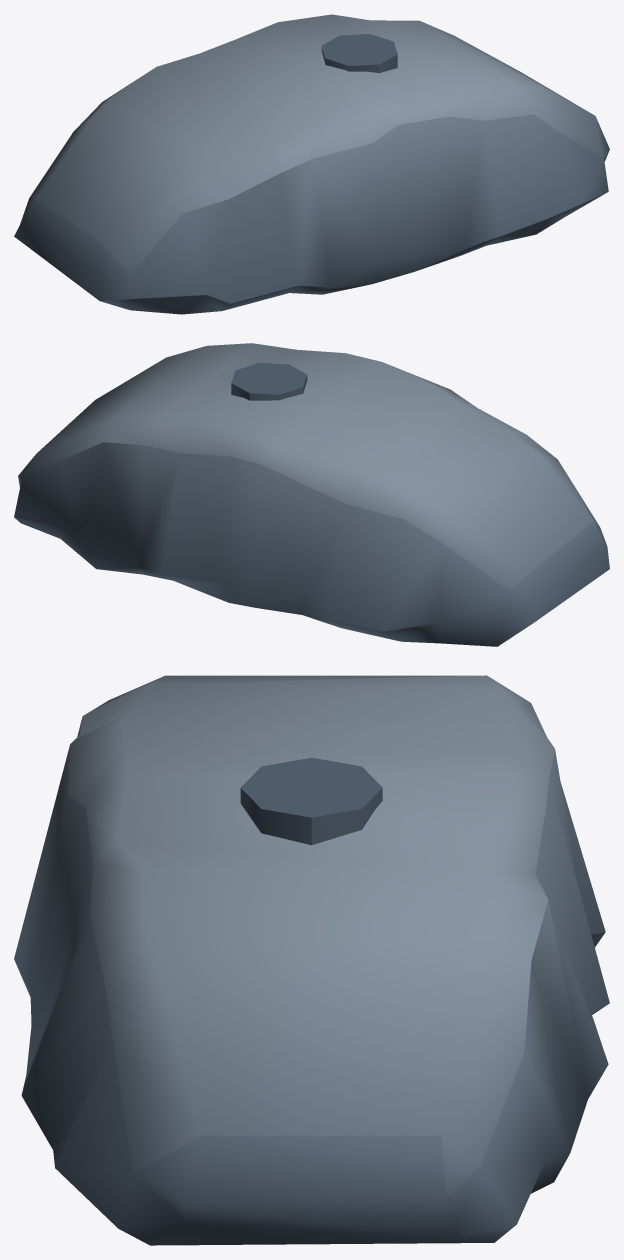
The model's file is Kulce_Gumus.fbx.
3 views of the same model, one above another, from view 1: azimuth 30°, elevation 25°; view 2: azimuth 150°, elevation 25°; view 3: azimuth 270°, elevation 25° (orthographic). The views are drawn at different scales.
Visible parts, largest first — view 1: Kulce_Gumus_Model; view 2: Kulce_Gumus_Model; view 3: Kulce_Gumus_Model.
Boxes of the visible parts, x1,y1,x2,y2 form: Kulce_Gumus_Model: [14, 14, 609, 314]; Kulce_Gumus_Model: [14, 343, 609, 646]; Kulce_Gumus_Model: [14, 675, 609, 1245].
Size of the model in its own units: 0.1035 by 0.0318 by 0.0571.
